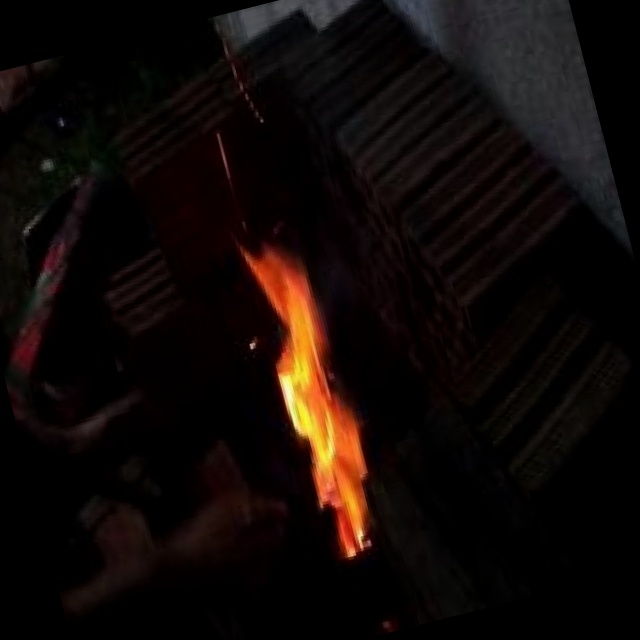fire: (171, 186, 430, 595)
